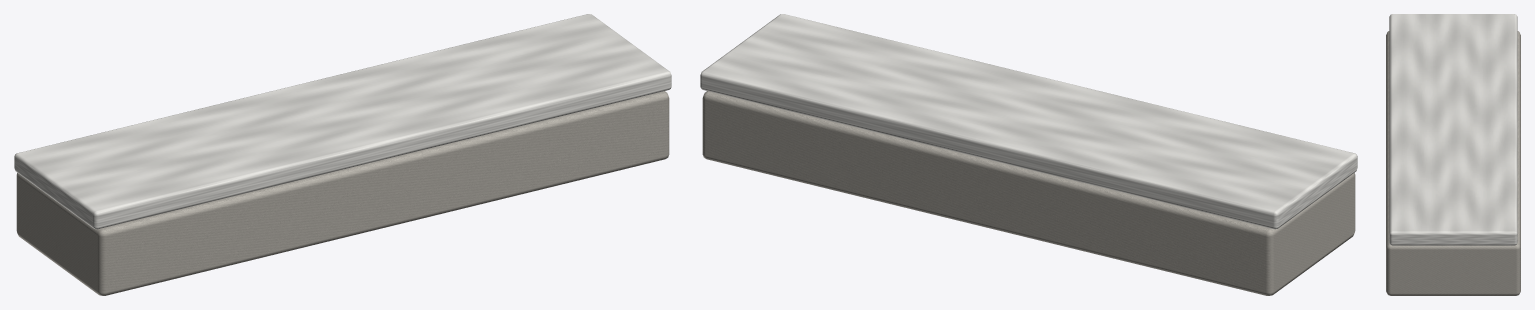
File: greek-island-village-and-harbour-lane-step-block-ab948abf__37082.glb
3 views of the same model, side by side, from view 1: azimuth 30°, elevation 25°; view 2: azimuth 150°, elevation 25°; view 3: azimuth 270°, elevation 25° (orthographic). The views are drawn at different scales.
Visible parts, largest first — view 1: lane-step-block; view 2: lane-step-block; view 3: lane-step-block.
Part boxes in pixels (x1=…): lane-step-block: x1=14, y1=14, x2=671, y2=295; lane-step-block: x1=700, y1=14, x2=1357, y2=295; lane-step-block: x1=1386, y1=14, x2=1520, y2=295.
Size of the model in its own units: 1.62 by 0.23 by 0.42.
2 materials, 2 textured.
